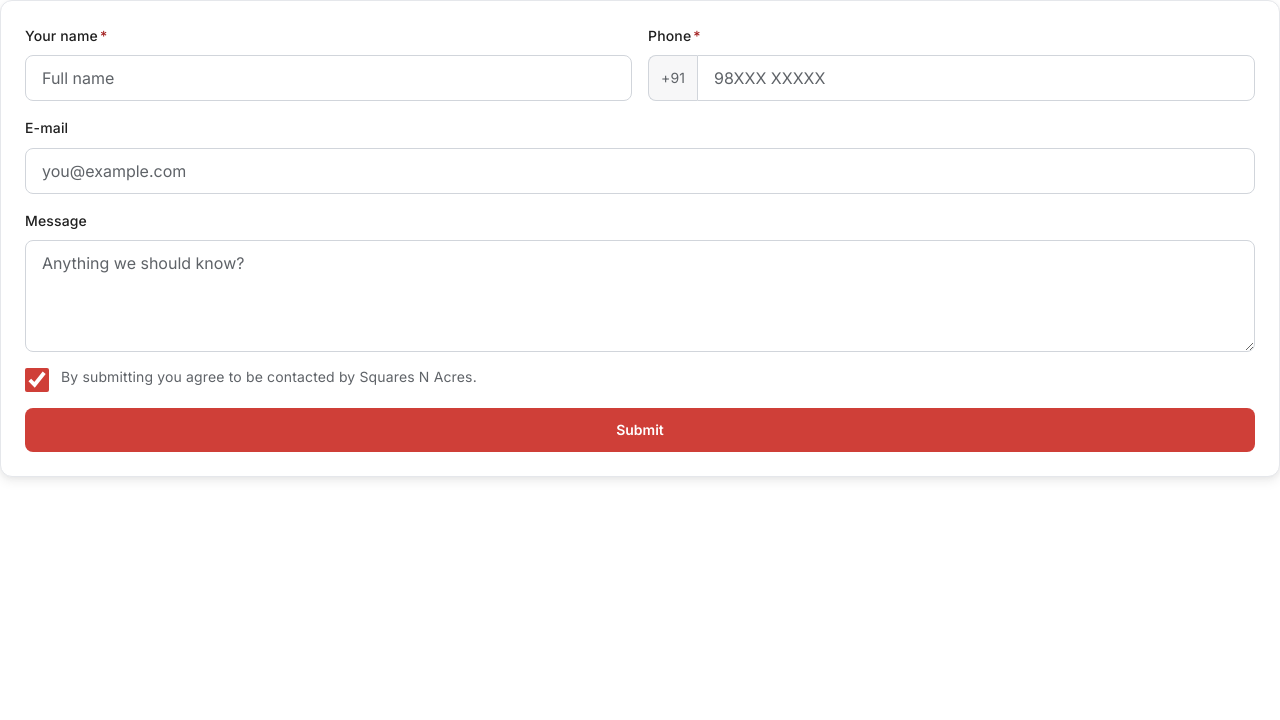
Scenario: consent (§6) › blocks the submit when it is unticked
Type "Asha Rao" into the field labelled "Your name*". click: (328, 78)
box: top-left (25, 55), bottom-right (632, 101)
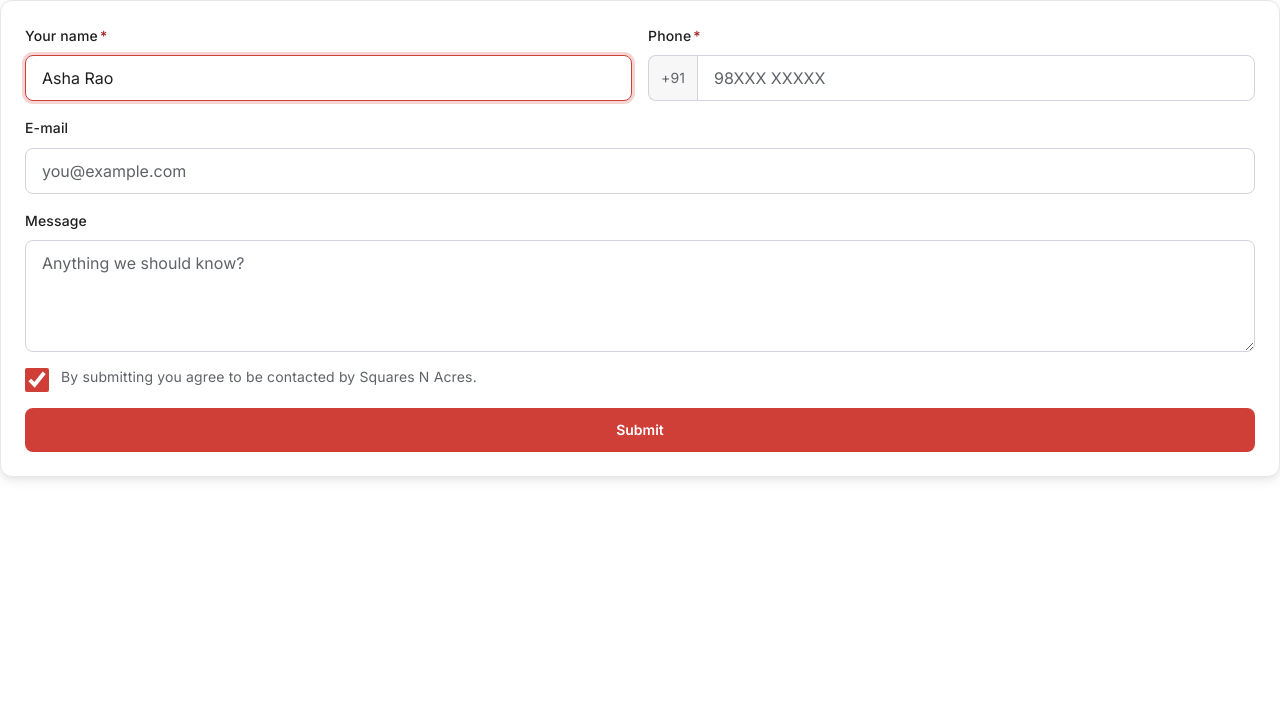
Type "9876543210" into the field labelled "Phone*". click: (976, 78)
box: top-left (697, 55), bottom-right (1255, 101)
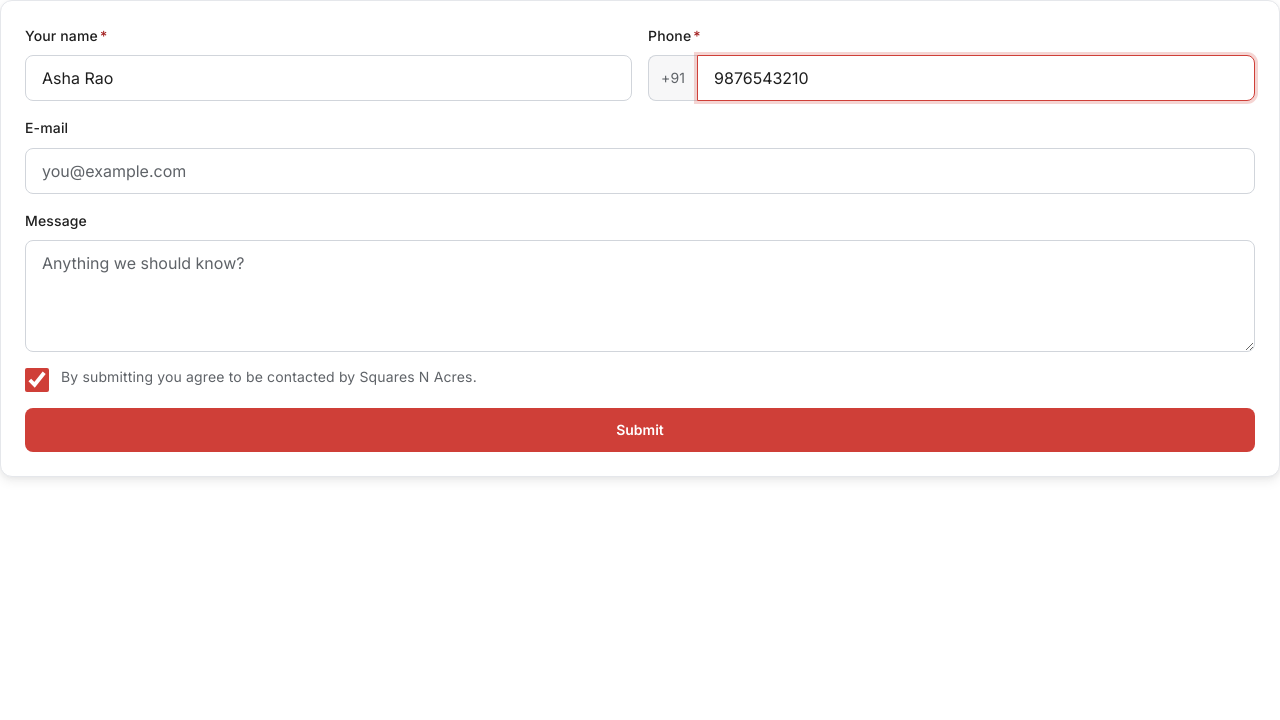
Click the checkbox labelled "By submitting you agree to be contacted by Squares N Acres.". click: (37, 380)
box: top-left (25, 368), bottom-right (49, 392)
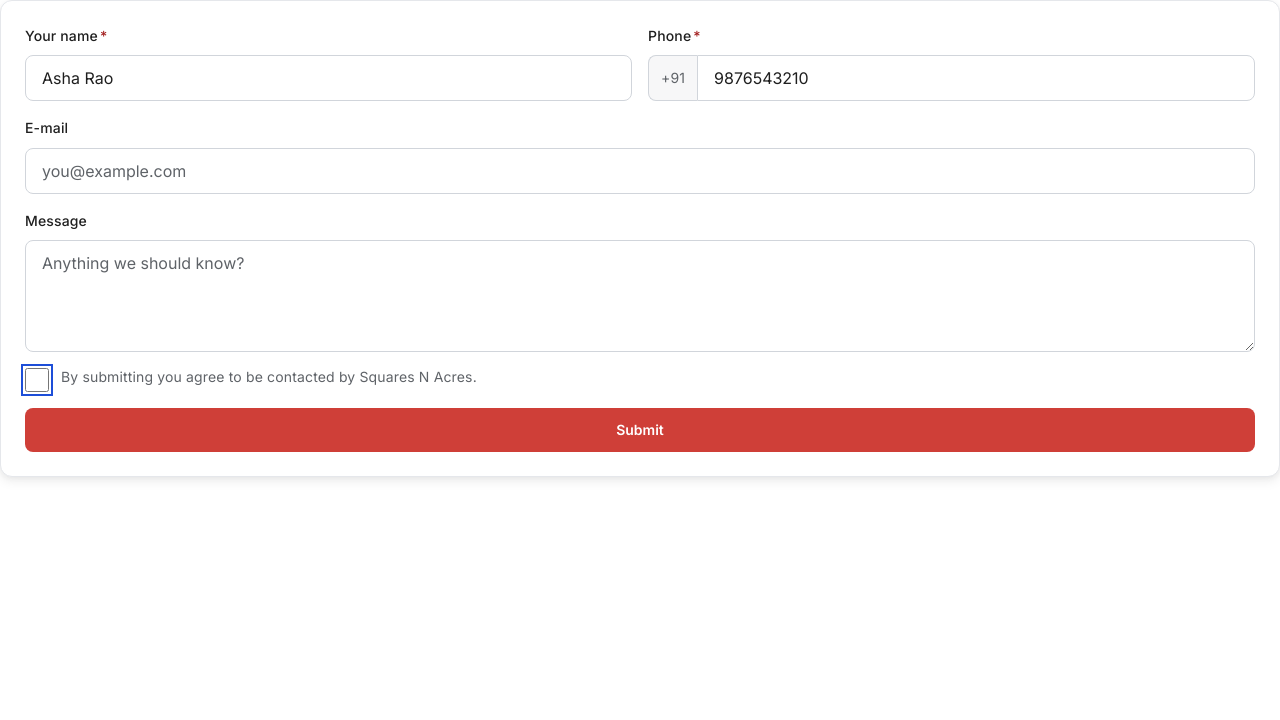
Click the button "Submit". click: (640, 430)
box: top-left (25, 408), bottom-right (1255, 452)
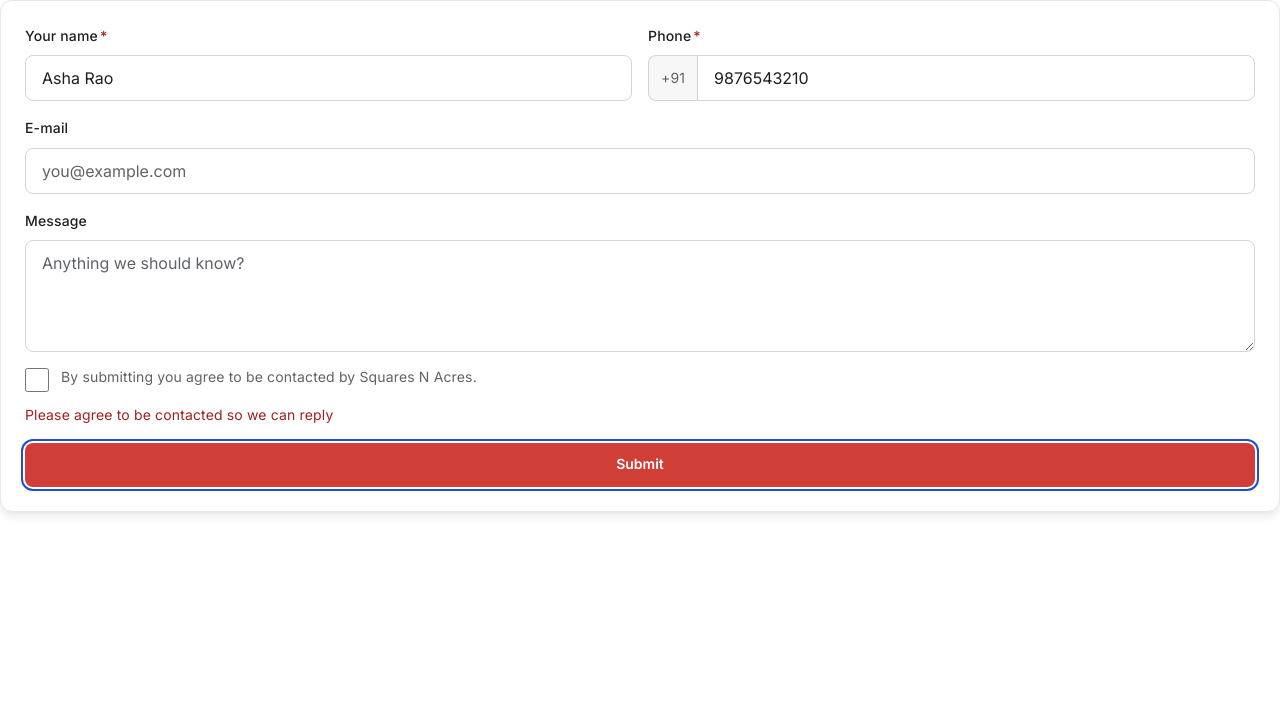
Now the text "Please agree to be contacted so we can reply" is shown, box top-left (25, 406), bottom-right (333, 423)
